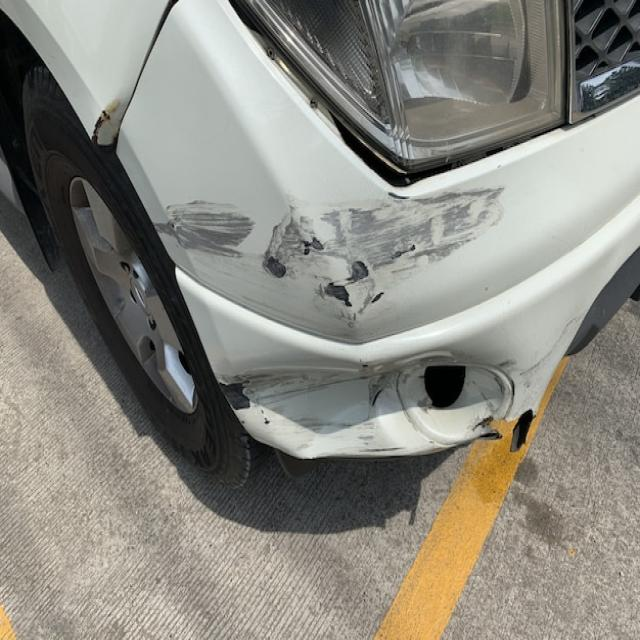dent: (223, 343, 424, 458), (91, 97, 133, 152)
misalignment: (230, 0, 573, 188), (141, 0, 179, 70)
scratch: (154, 182, 505, 344), (214, 314, 584, 455), (87, 96, 122, 146)
tear: (470, 410, 536, 453)
